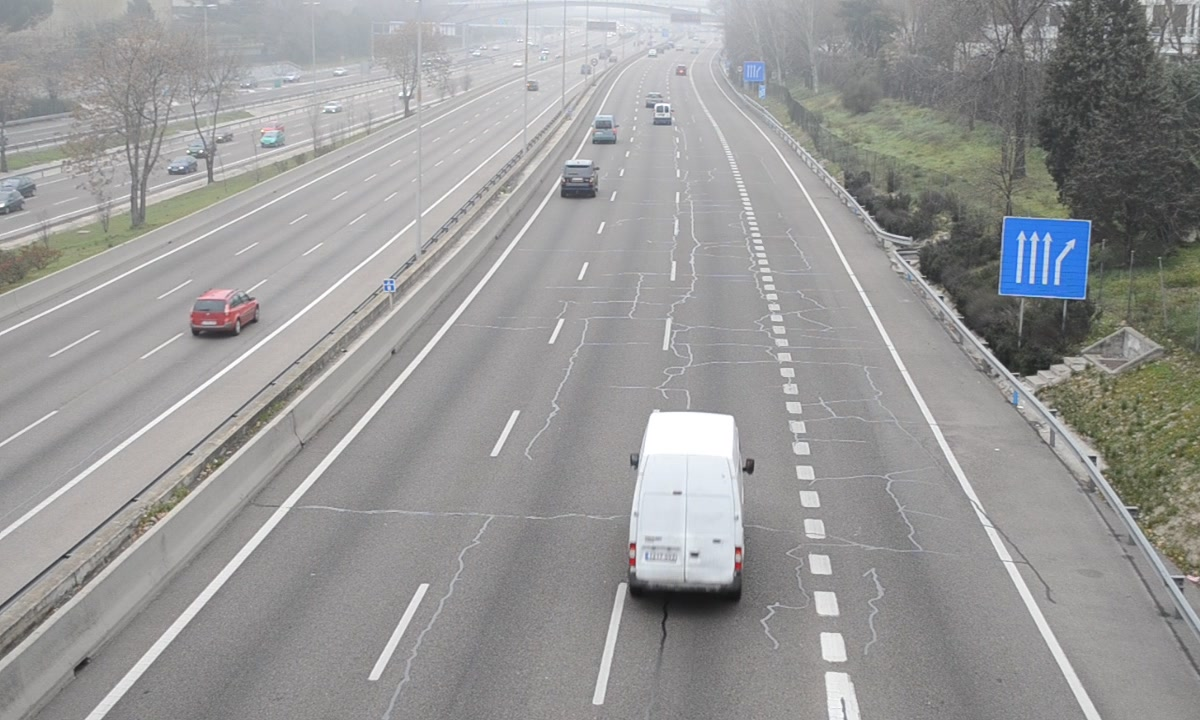car: (560, 159, 600, 200)
van: (626, 411, 744, 601), (593, 114, 618, 142)
